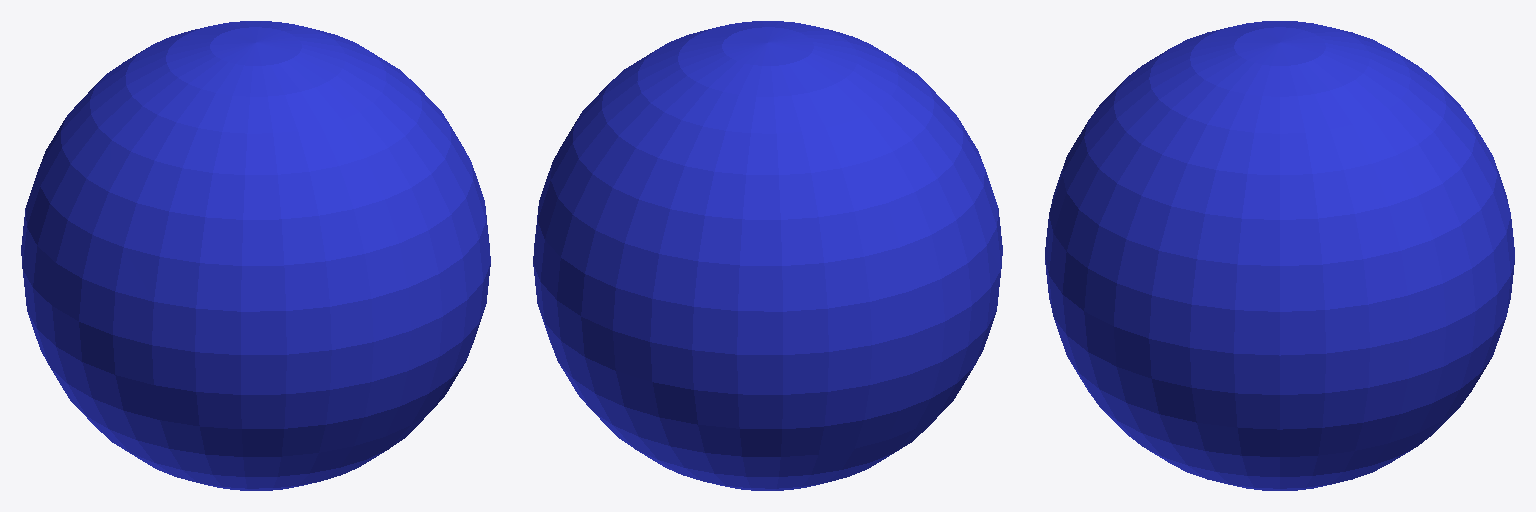
Rendered from ball2.obj.
The picture shows the model from 3 angles: view 1: azimuth 30°, elevation 25°; view 2: azimuth 150°, elevation 25°; view 3: azimuth 270°, elevation 25°; orthographic projection.
Visible parts, largest first — view 1: Sphere002; view 2: Sphere002; view 3: Sphere002.
Boxes of the visible parts, box(x1,y1,x2,y2) form: Sphere002: box(21, 21, 490, 490); Sphere002: box(533, 21, 1002, 490); Sphere002: box(1045, 21, 1514, 490).
Bounding box in the file's own units: 106 × 106 × 106.